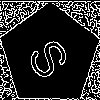S: (25, 30, 79, 84)
